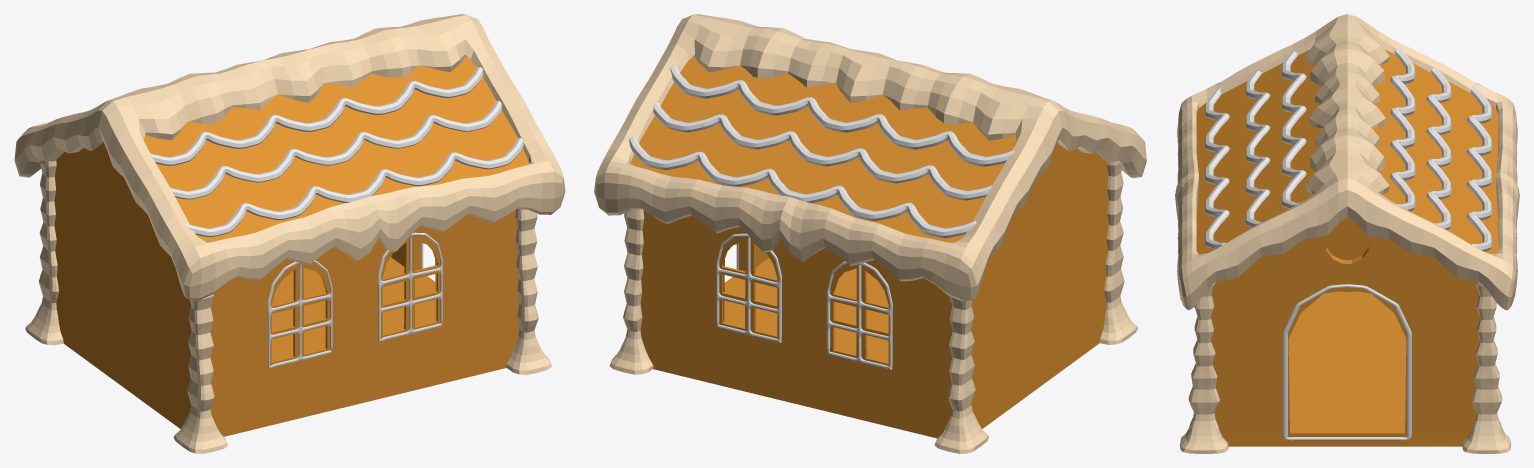
The model's file is Gingerbread_House.fbx.
3 views of the same model, side by side, from view 1: azimuth 30°, elevation 25°; view 2: azimuth 150°, elevation 25°; view 3: azimuth 270°, elevation 25° (orthographic). The views are drawn at different scales.
Parts seen in each view (by area): view 1: CasaBase, Det1, BaseTelha, Cube.003, De2, De2.002, Cube.002, De2.001, Cube.004, Plane.002, Plane.003; view 2: CasaBase, Det1, BaseTelha, De2.2, Cube.004, De2.003, De2.004, DetsCasa 1, Cube.003, Plane.001, Det Casa 2; view 3: CasaBase, Det1, BaseTelha, DetsCasa 1, Cube.002, DetPorta, De2.003, De2.2, De2.004, De2, De2.002, De2.001.
Boxes of the visible parts, x1=… form: CasaBase: x1=54, y1=142, x2=519, y2=436; Det1: x1=14, y1=14, x2=565, y2=300; BaseTelha: x1=144, y1=56, x2=529, y2=241; Cube.003: x1=173, y1=294, x2=228, y2=453; De2: x1=150, y1=67, x2=483, y2=165; De2.002: x1=185, y1=138, x2=523, y2=236; Cube.002: x1=506, y1=209, x2=551, y2=374; De2.001: x1=170, y1=100, x2=501, y2=199; Cube.004: x1=25, y1=160, x2=63, y2=345; Plane.002: x1=267, y1=260, x2=332, y2=368; Plane.003: x1=378, y1=232, x2=442, y2=341; CasaBase: x1=640, y1=143, x2=1108, y2=438; Det1: x1=594, y1=14, x2=1146, y2=301; BaseTelha: x1=630, y1=56, x2=1017, y2=242; De2.2: x1=670, y1=65, x2=1014, y2=166; Cube.004: x1=934, y1=296, x2=989, y2=453; De2.003: x1=629, y1=136, x2=976, y2=237; De2.004: x1=653, y1=102, x2=992, y2=200; DetsCasa 1: x1=609, y1=209, x2=653, y2=374; Cube.003: x1=1099, y1=160, x2=1137, y2=344; Plane.001: x1=827, y1=261, x2=892, y2=369; Det Casa 2: x1=716, y1=233, x2=781, y2=342; CasaBase: x1=1211, y1=217, x2=1479, y2=446; Det1: x1=1175, y1=14, x2=1519, y2=310; BaseTelha: x1=1196, y1=50, x2=1498, y2=253; DetsCasa 1: x1=1462, y1=280, x2=1510, y2=453; Cube.002: x1=1180, y1=282, x2=1228, y2=453; DetPorta: x1=1282, y1=284, x2=1411, y2=440; De2.003: x1=1466, y1=86, x2=1492, y2=251; De2.2: x1=1390, y1=47, x2=1415, y2=211; De2.004: x1=1426, y1=68, x2=1451, y2=229; De2: x1=1281, y1=51, x2=1306, y2=208; De2.002: x1=1205, y1=87, x2=1229, y2=249; De2.001: x1=1245, y1=71, x2=1270, y2=227.
Size of the model in its own units: 994 by 732 by 815.
3 materials, 2 textured.
